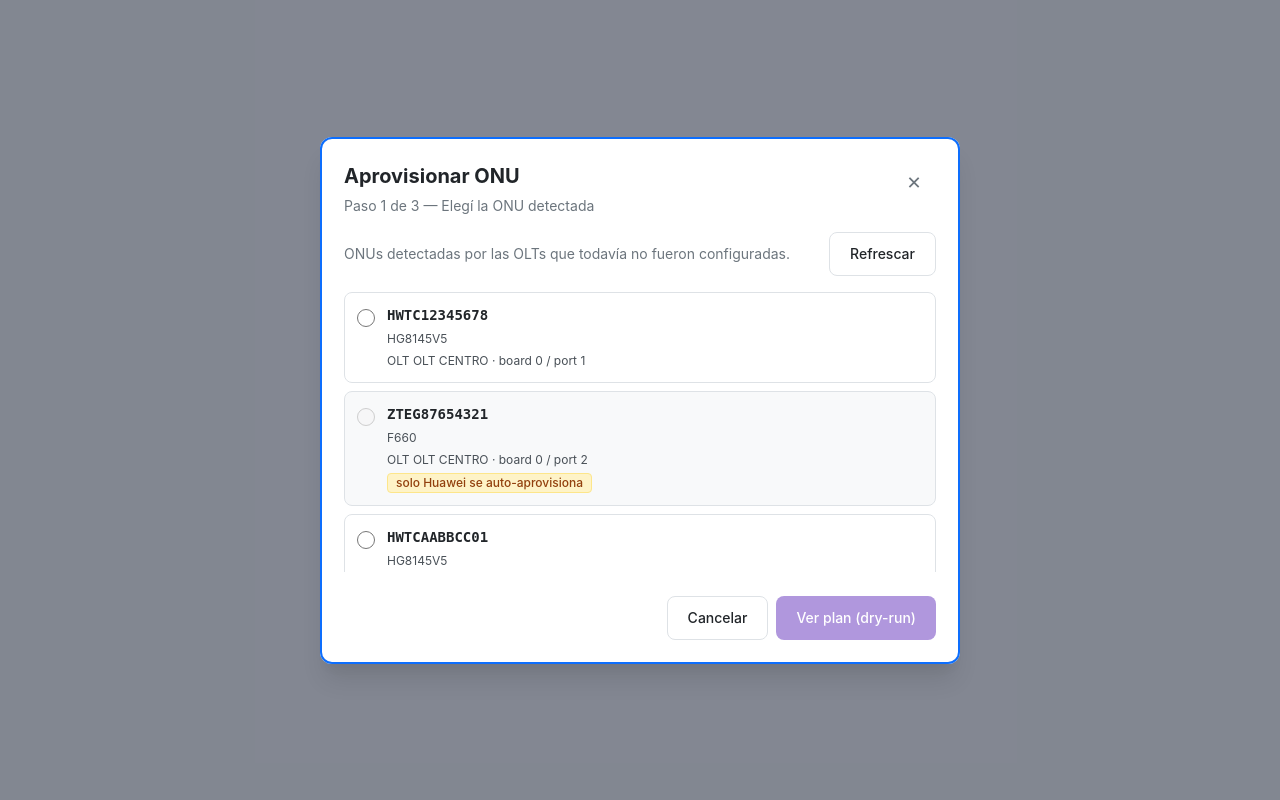
Test: ProvisionOnuModal — paso 1 (picker) › ONU vlanRequired (CHIVILCOY): input obligatorio con hint del operador
The width and height of the screenshot is (1280, 800).
What coordinates should you click on to do the following:
click the radio button labelled "HWTCAABBCC01 HG8145V5 OLT CHIVILCOY · board 1 / port 3"
I would click on:
 (366, 540)
Its box is [357, 530, 375, 548].
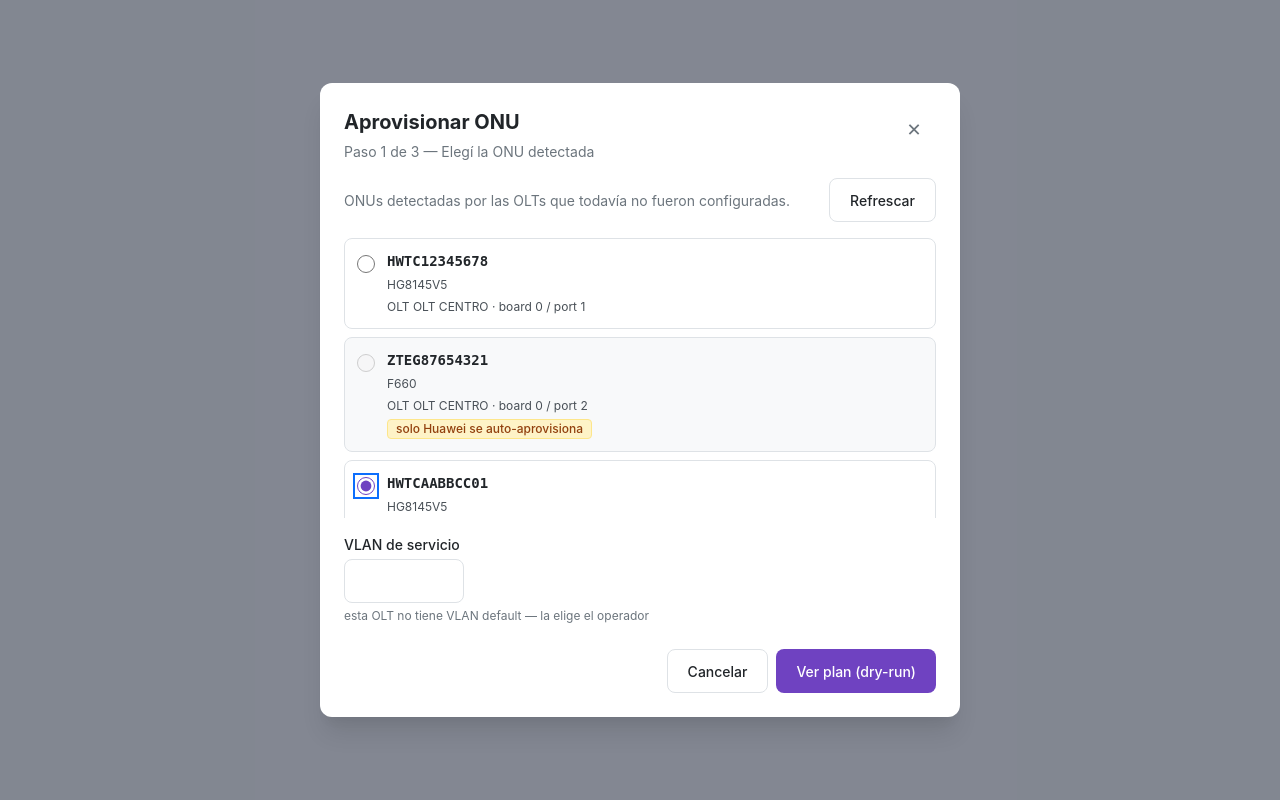
Result: the text "esta OLT no tiene VLAN default — la elige el operador" is shown at [344, 608, 649, 623]
